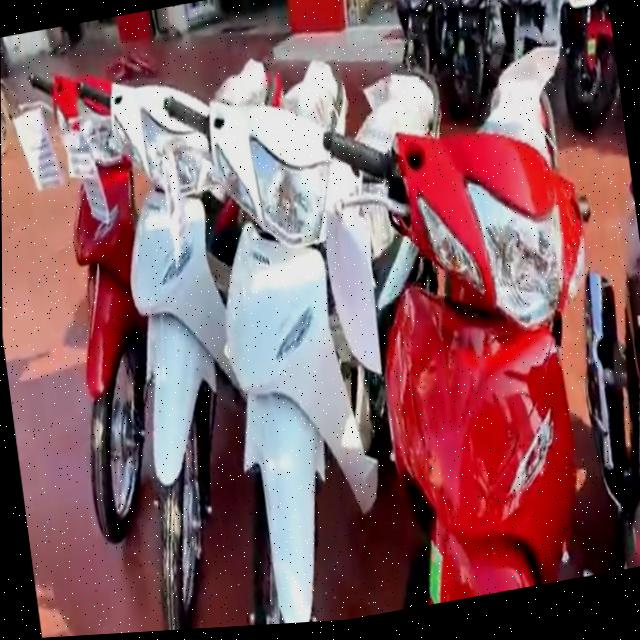motorcycle: (339, 95, 626, 613), (169, 63, 404, 630), (79, 72, 257, 635), (5, 48, 167, 544)
